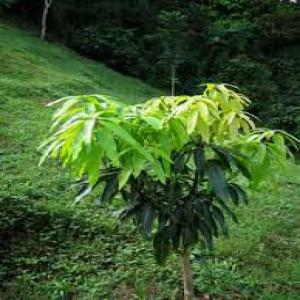Tree: (34, 79, 291, 293)
